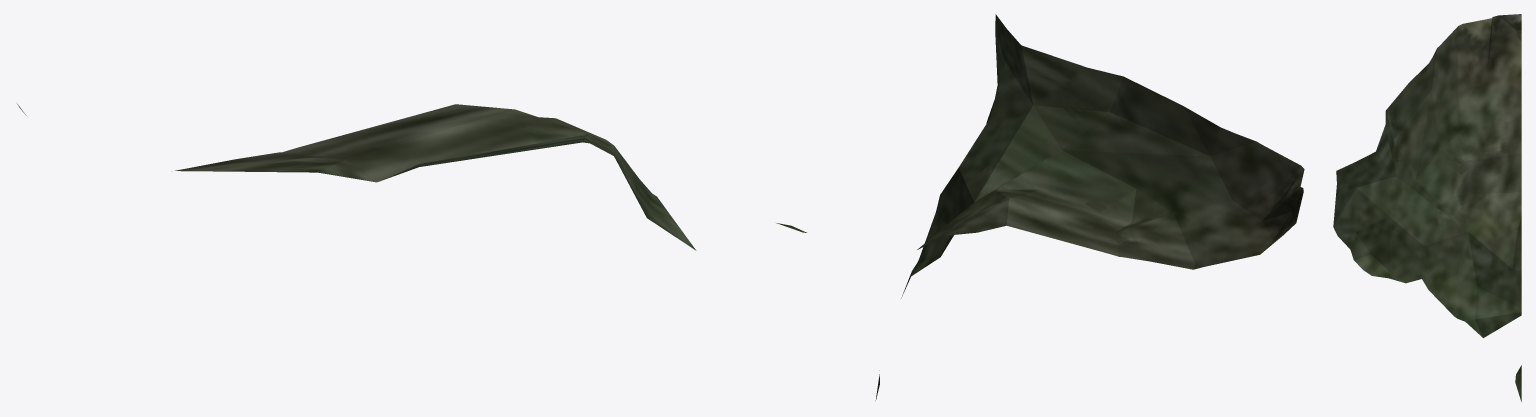
The picture shows the model from 3 angles, left to right: view 1: azimuth 30°, elevation 25°; view 2: azimuth 150°, elevation 25°; view 3: azimuth 270°, elevation 25°; orthographic projection. The views are drawn at different scales.
Size of the model in its own units: 1.68 by 1.16 by 0.8531.
1 material, 1 textured.
